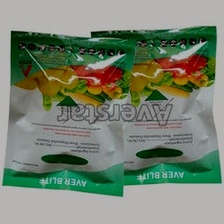insecticide: (0, 26, 140, 199), (88, 23, 222, 186)
